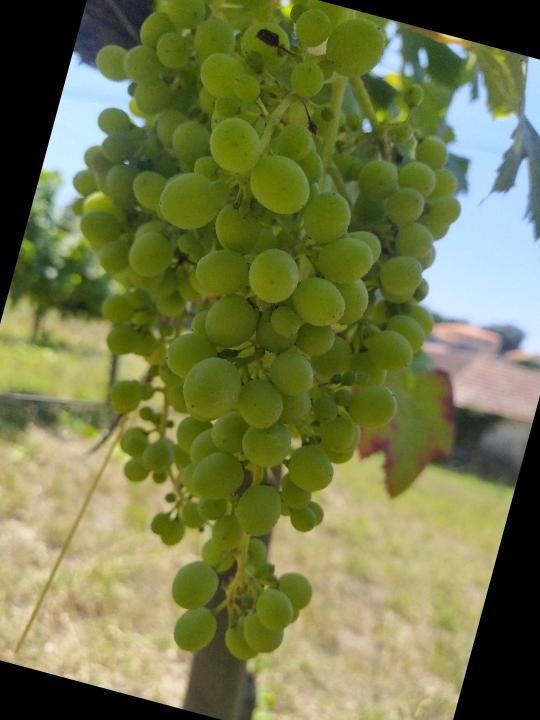grape: (0, 0, 510, 691)
